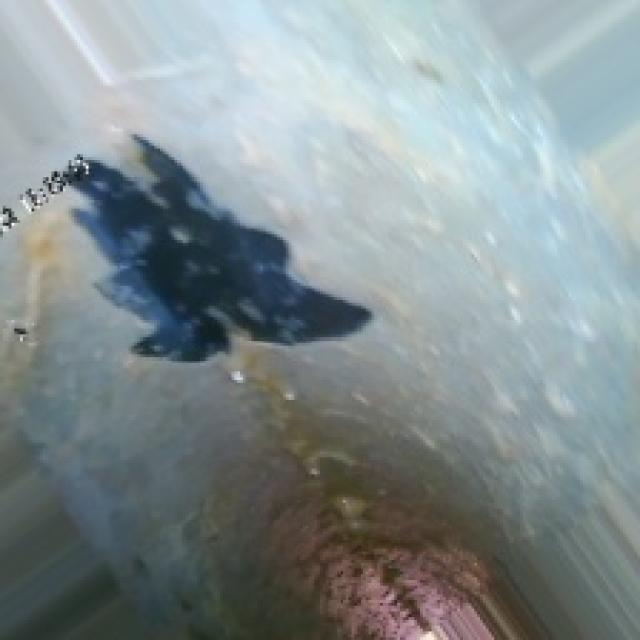pipe_surface_damage: (57, 128, 380, 368)
